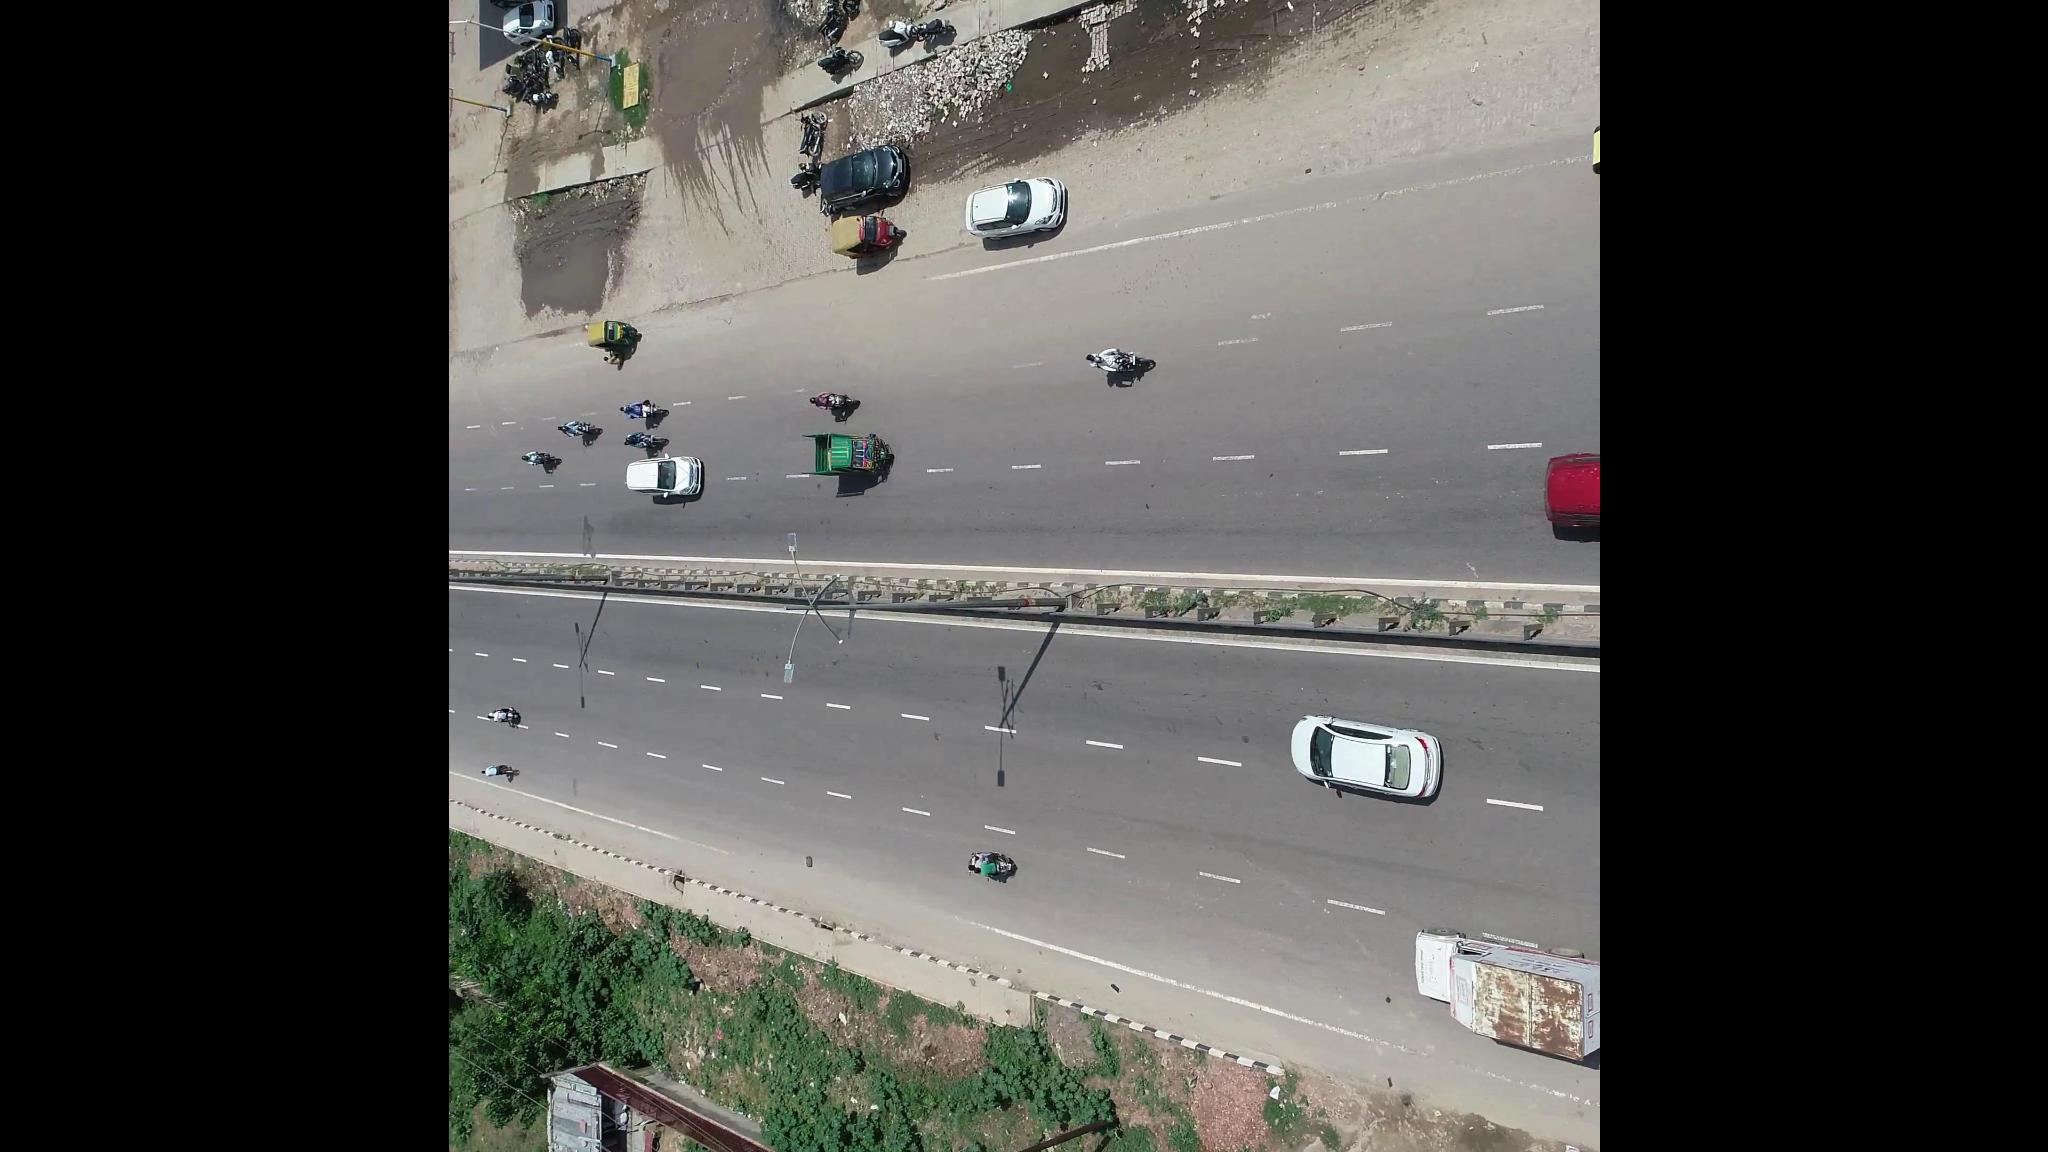Road_side_garbage: (855, 39, 1045, 148)
